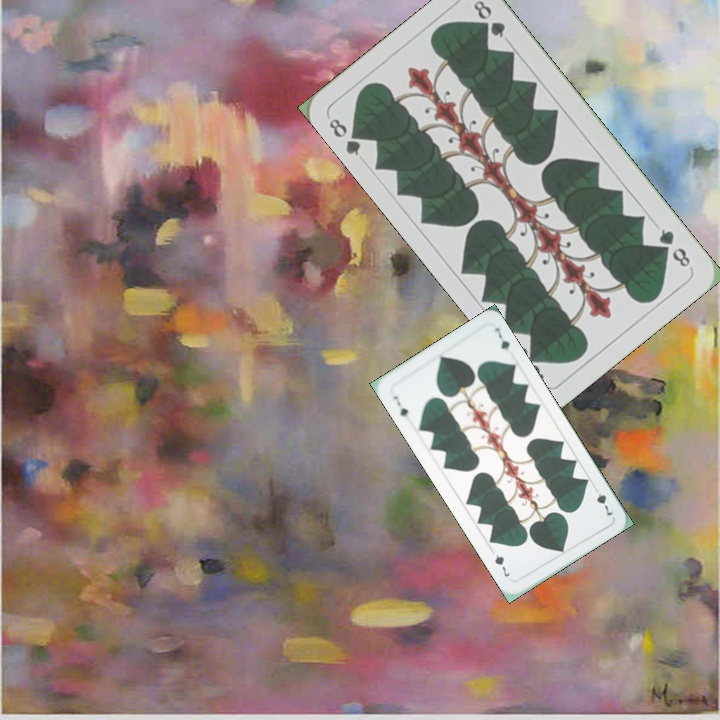G7: (589, 482, 615, 518), (389, 391, 411, 420)
G8: (325, 114, 367, 159), (654, 224, 693, 272)
